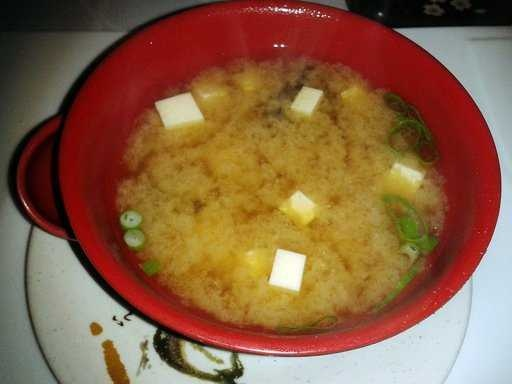soup: (78, 20, 454, 341)
